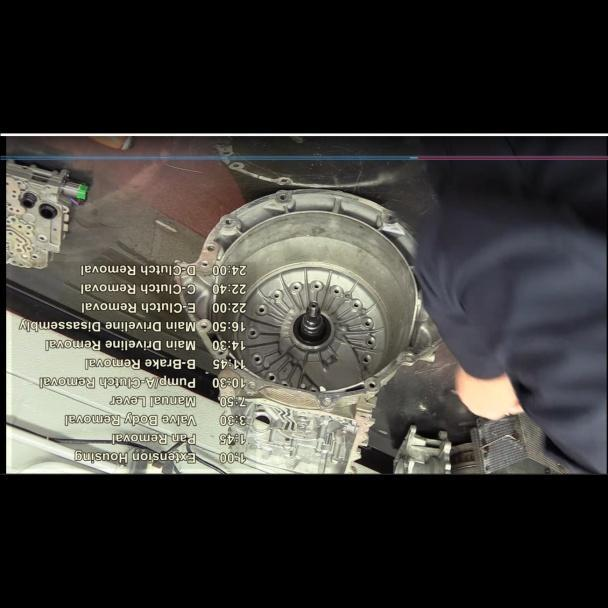hole: (366, 379, 377, 389), (205, 242, 213, 253), (278, 192, 286, 201)
